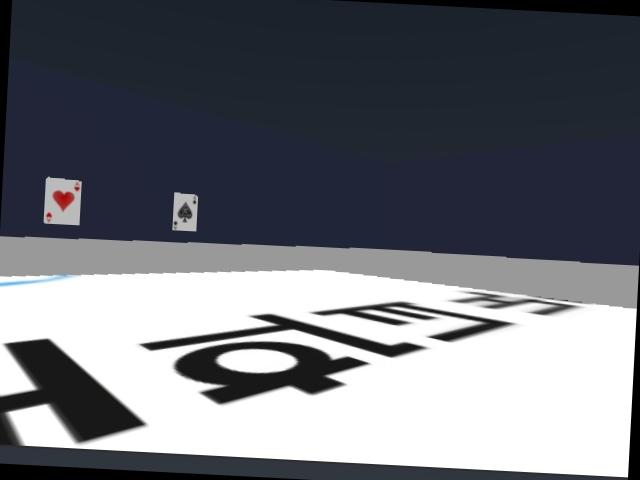club: (171, 192, 197, 230)
heart: (43, 178, 81, 224)
